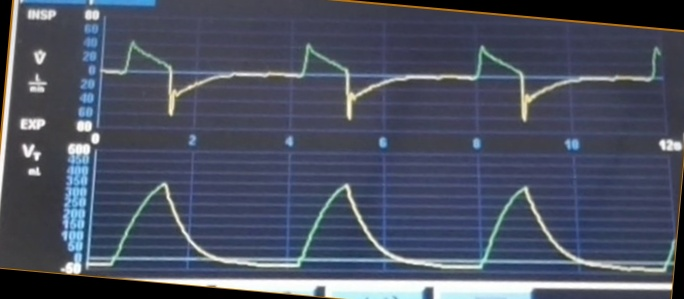Normal Flow: (103, 32, 660, 127)
Normal Volume: (95, 178, 672, 276)
